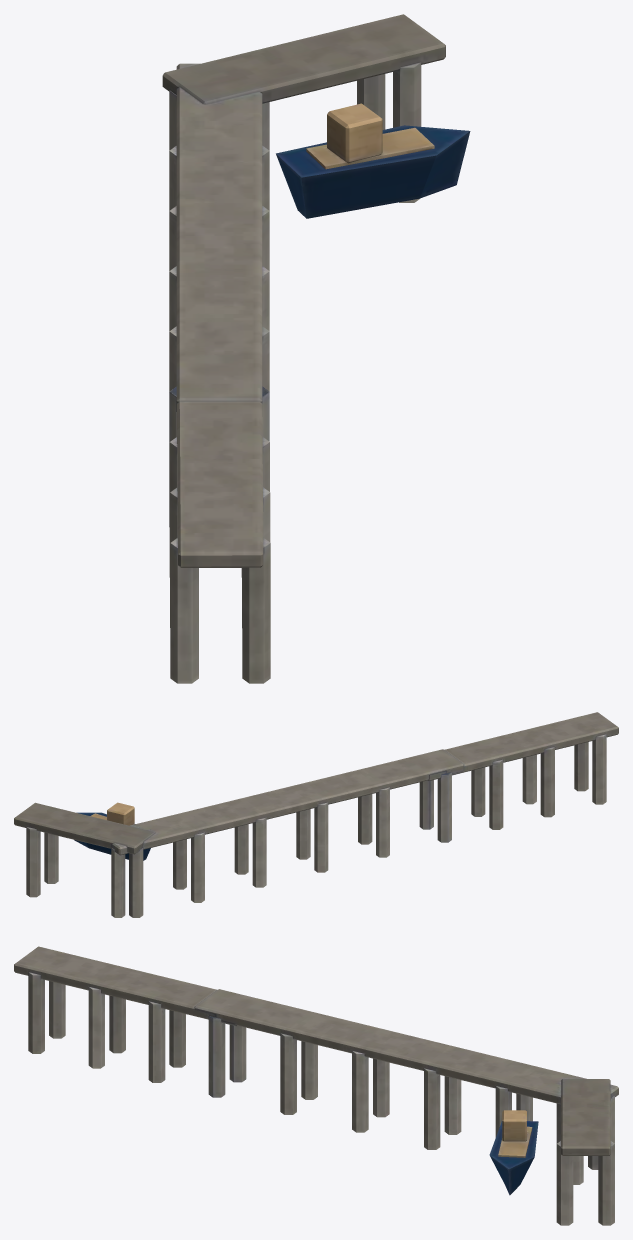
Rendered from harbor-pier-10.glb.
The picture shows the model from 3 angles, top to bottom: view 1: azimuth 30°, elevation 25°; view 2: azimuth 150°, elevation 25°; view 3: azimuth 270°, elevation 25°; orthographic projection. The views are drawn at different scales.
Parts seen in each view (by area): view 1: harbor-pier-10; view 2: harbor-pier-10; view 3: harbor-pier-10.
Part boxes in pixels (bbox=[...]): harbor-pier-10: bbox=[162, 14, 470, 683]; harbor-pier-10: bbox=[14, 712, 618, 917]; harbor-pier-10: bbox=[14, 946, 618, 1225].
Size of the model in its own units: 2.33 by 0.457 by 2.92.
Materials: 1 (1 with a texture image).
